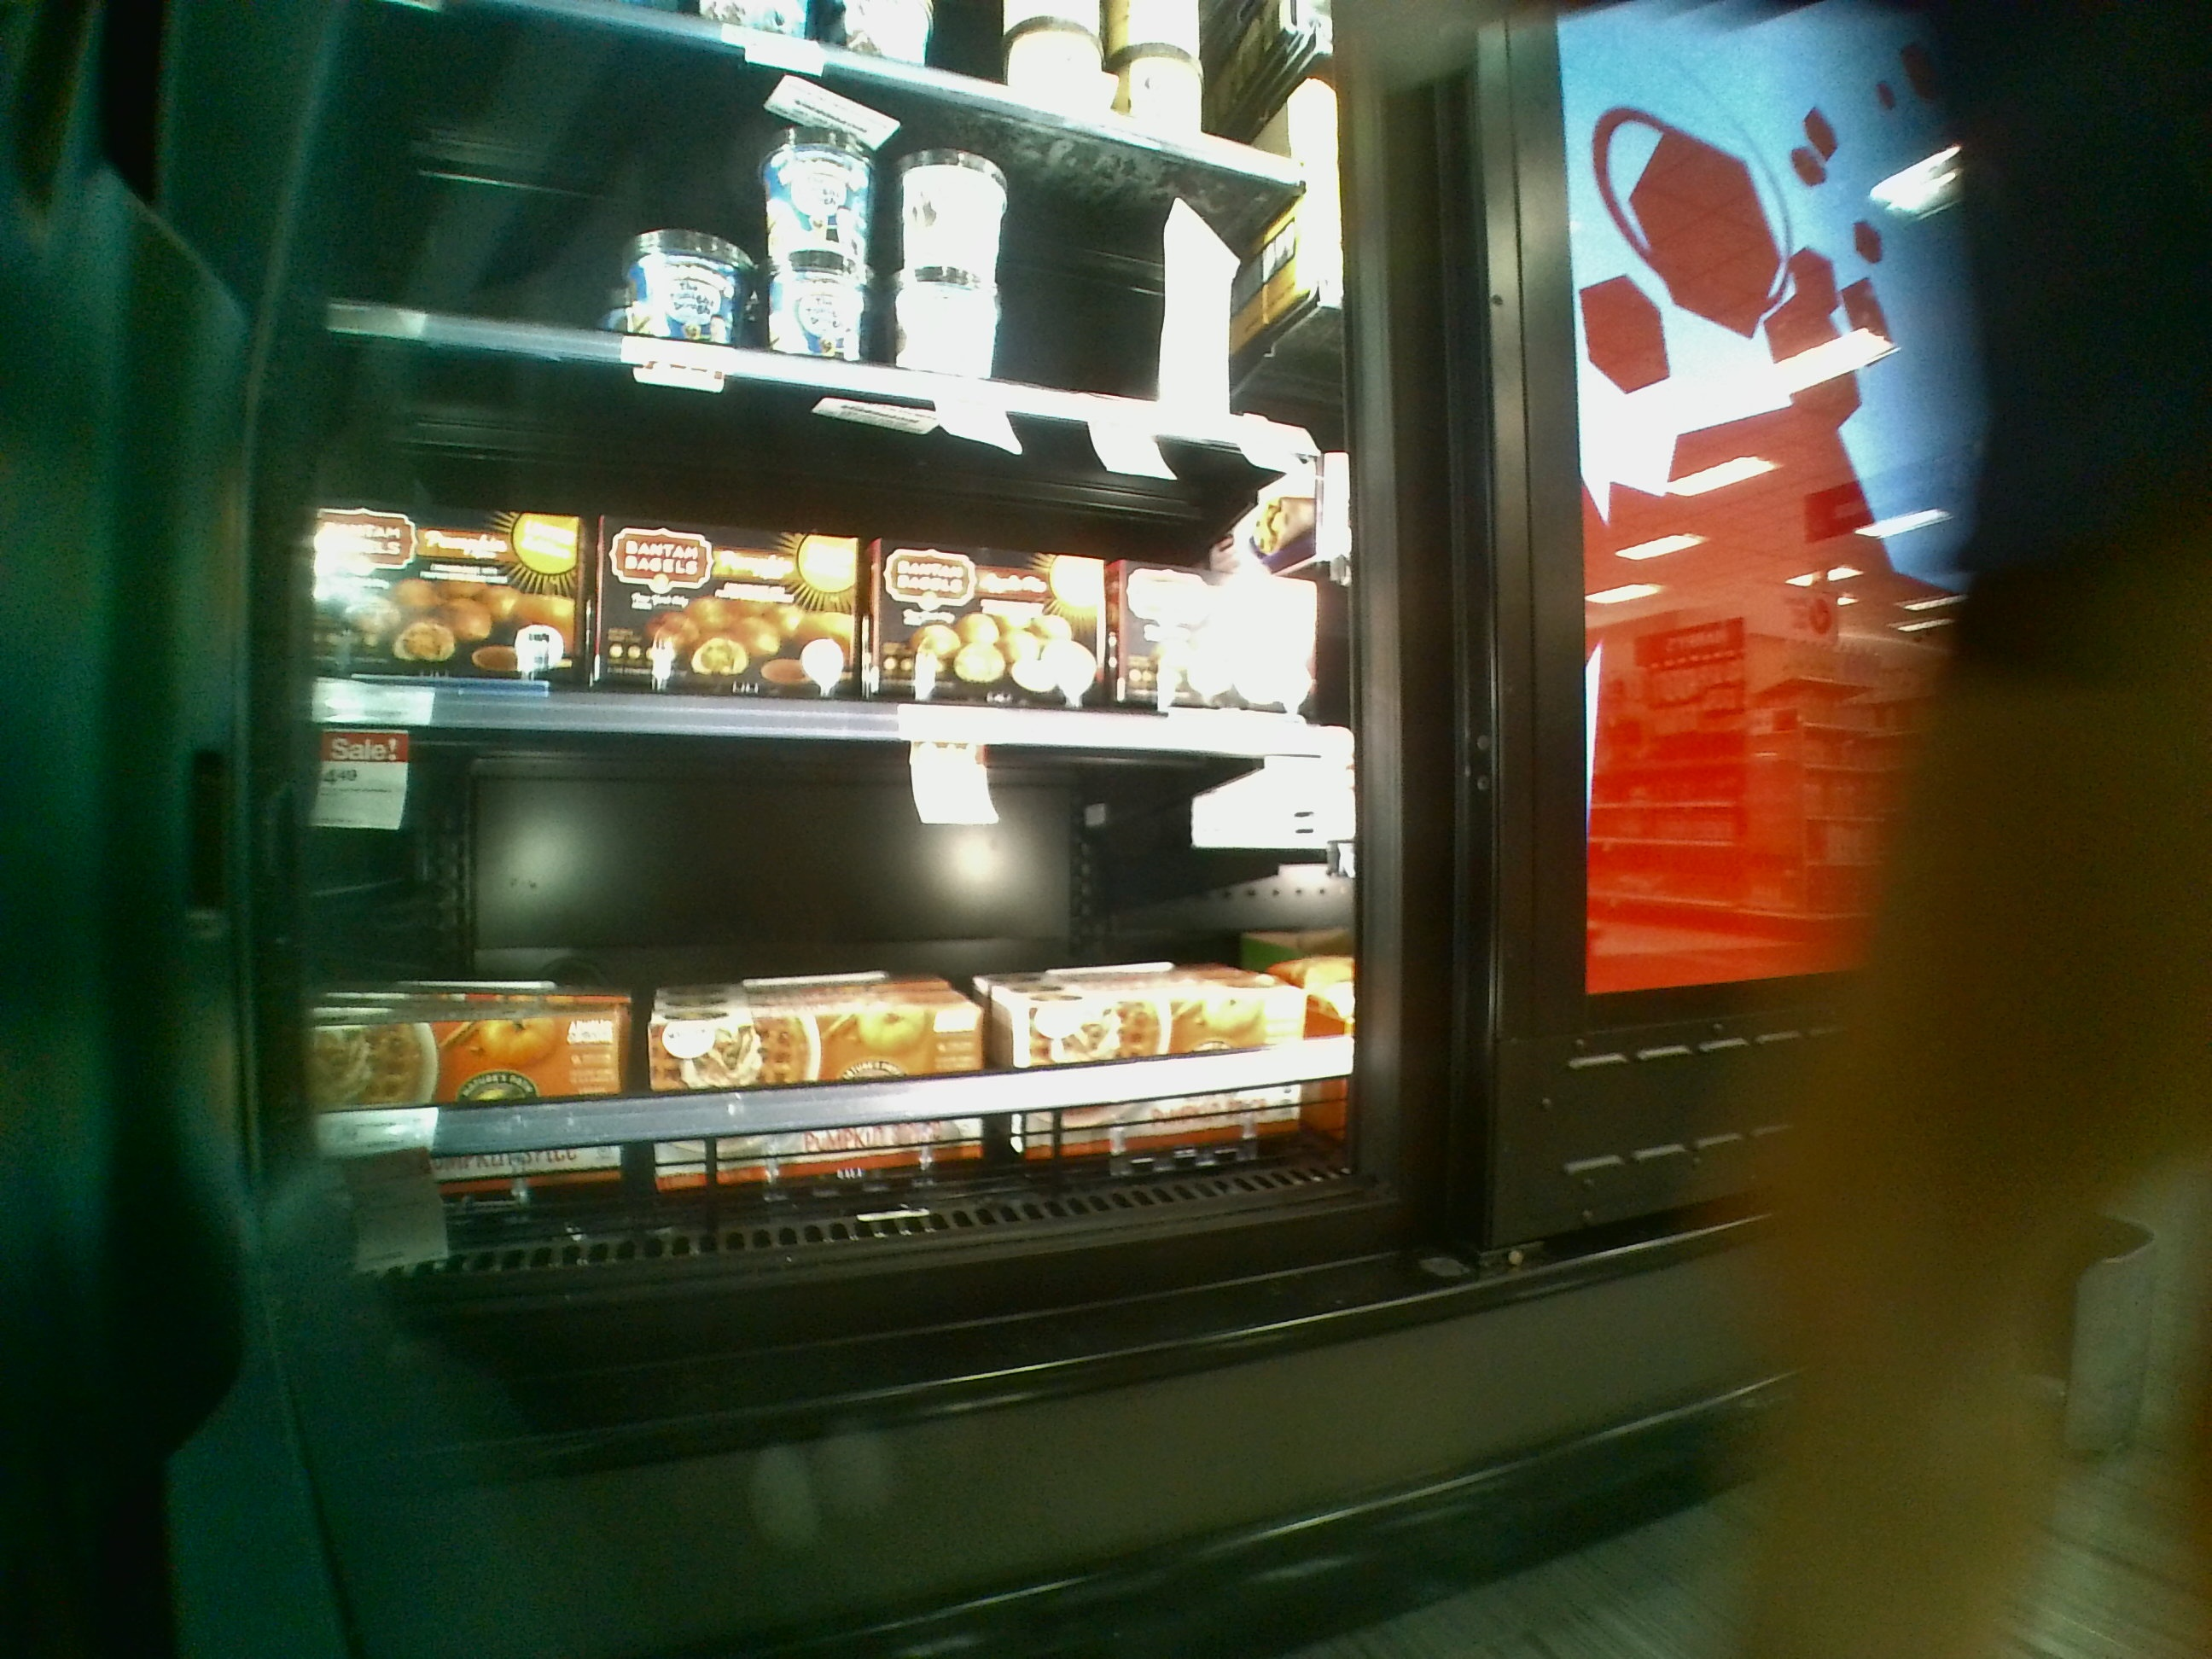shelf: (294, 704, 1404, 1276), (303, 321, 1378, 755)
